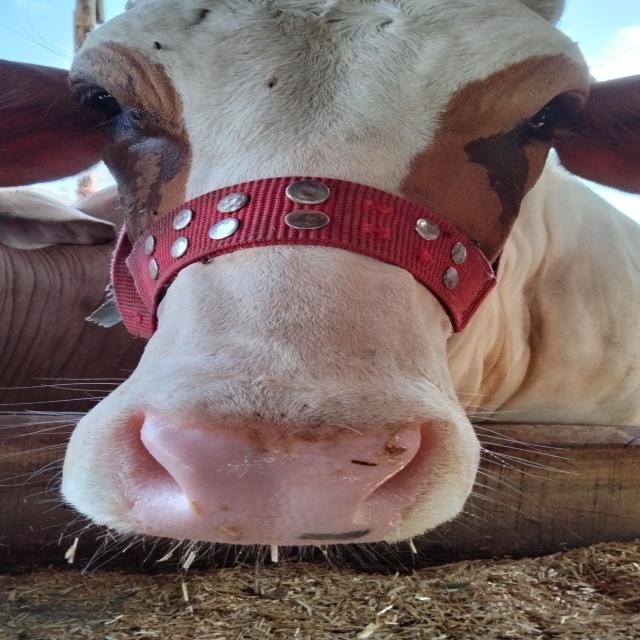muzzles: (108, 391, 448, 552)
